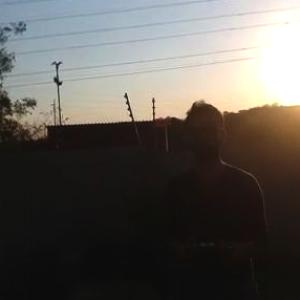follow: (153, 95, 273, 299)
